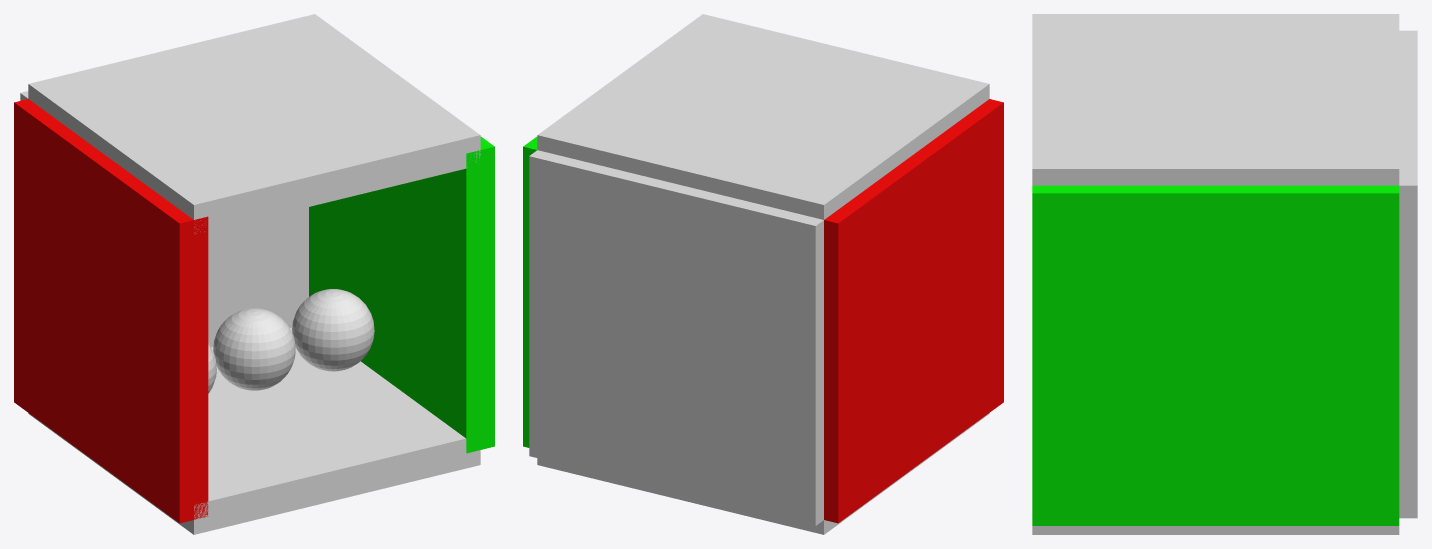
File: cornell_boxes_3_balls.glb
3 views of the same model, side by side, from view 1: azimuth 30°, elevation 25°; view 2: azimuth 150°, elevation 25°; view 3: azimuth 270°, elevation 25° (orthographic). The views are drawn at different scales.
Visible parts, largest first — view 1: Cube.001, Cube.002, Cube.003, Cube.004, Cube, Sphere, Sphere.002; view 2: Cube, Cube.001, Cube.002, Cube.004, Cube.003; view 3: Cube.003, Cube.002, Cube, Cube.004.
Part boxes in pixels (left/top/right/bottom): Cube.001: left=14, top=99, right=208, bottom=523; Cube.002: left=28, top=14, right=480, bottom=234; Cube.003: left=309, top=136, right=494, bottom=453; Cube.004: left=28, top=327, right=480, bottom=534; Cube: left=20, top=91, right=308, bottom=347; Sphere: left=213, top=308, right=295, bottom=390; Sphere.002: left=292, top=289, right=374, bottom=371; Cube: left=529, top=150, right=823, bottom=525; Cube.001: left=824, top=99, right=1003, bottom=523; Cube.002: left=537, top=14, right=989, bottom=219; Cube.004: left=537, top=413, right=989, bottom=534; Cube.003: left=523, top=136, right=537, bottom=447; Cube.003: left=1032, top=185, right=1399, bottom=525; Cube.002: left=1032, top=14, right=1399, bottom=185; Cube: left=1399, top=30, right=1417, bottom=518; Cube.004: left=1032, top=526, right=1399, bottom=534.
Size of the model in its own units: 2.2 by 2.2 by 2.1.
